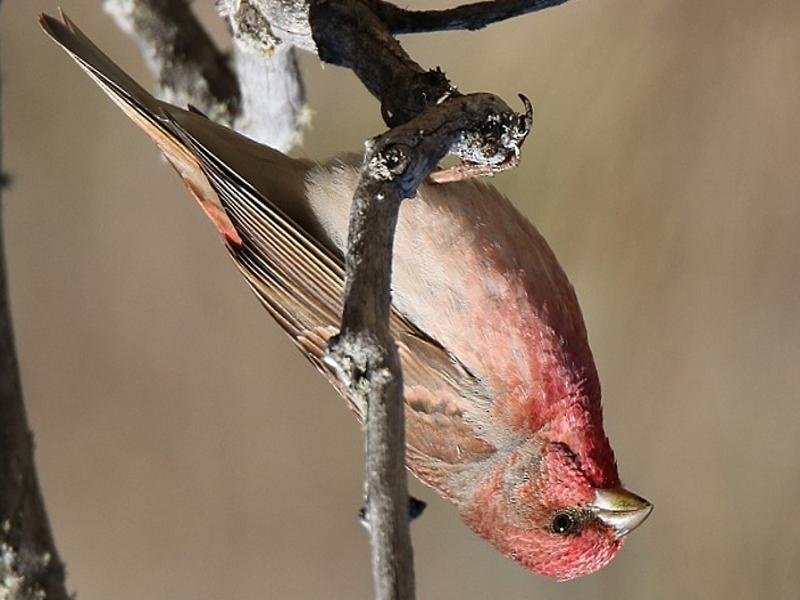rosefinch: (286, 157, 653, 562)
